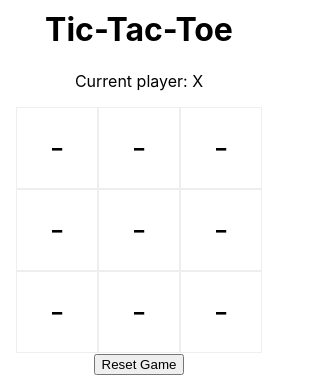
Scenario: clicking on a tile changes the tile
Click the element with test id "cell-1": (57, 148) 16,107 -> 98,189
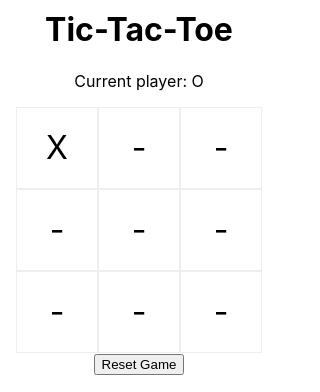
Expected: the element with test id "cell-1" reads "X", 46,128 -> 68,167
Click the element with test id "cell-2": (139, 148) 98,107 -> 180,189
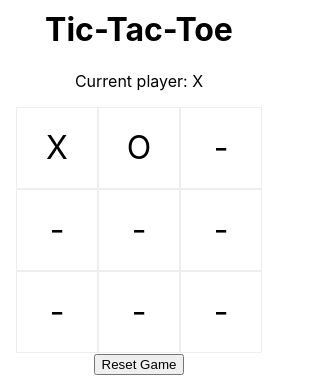
Expected: the element with test id "cell-2" reads "O", 127,128 -> 151,167
